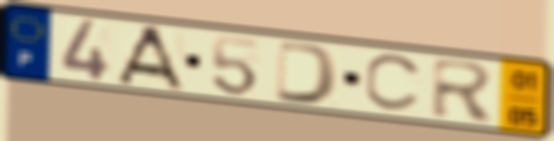4: (58, 17, 114, 83)
5: (210, 33, 263, 97)
A: (112, 24, 188, 94)
C: (362, 53, 427, 115)
D: (272, 38, 343, 107)
R: (429, 56, 499, 124)
